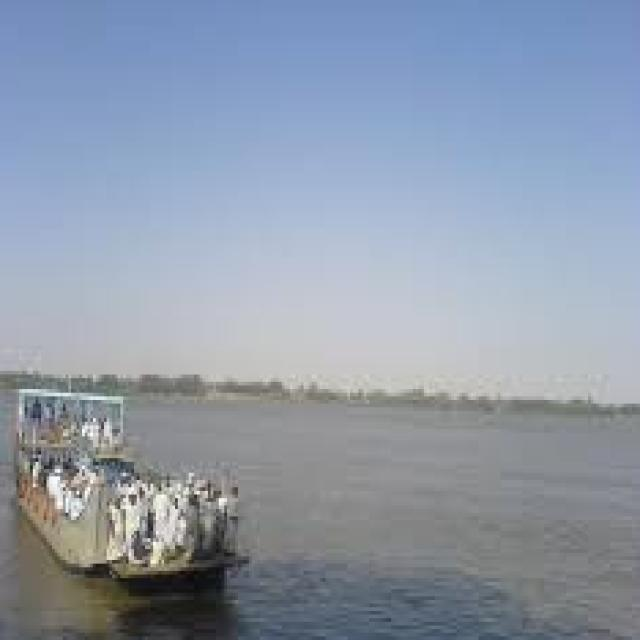houseboat: (2, 365, 245, 591)
